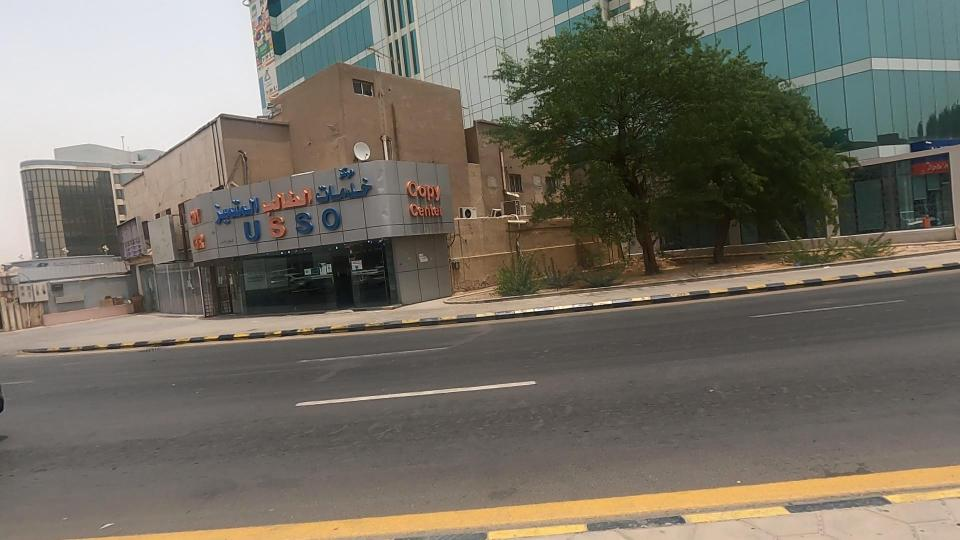BAD_BILLBOARD: (113, 190, 210, 289), (90, 190, 176, 284)
